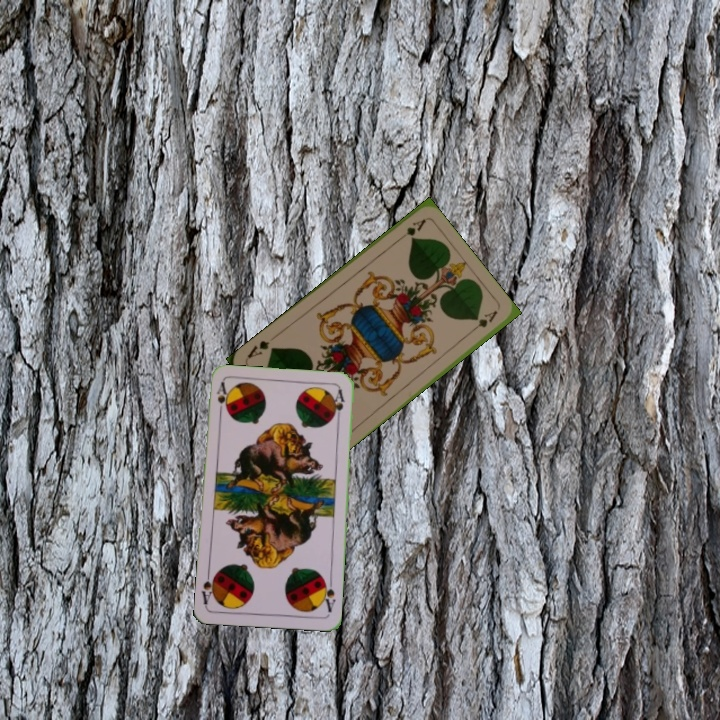GA: (392, 215, 428, 245)
SA: (318, 574, 338, 615), (213, 379, 230, 420)
